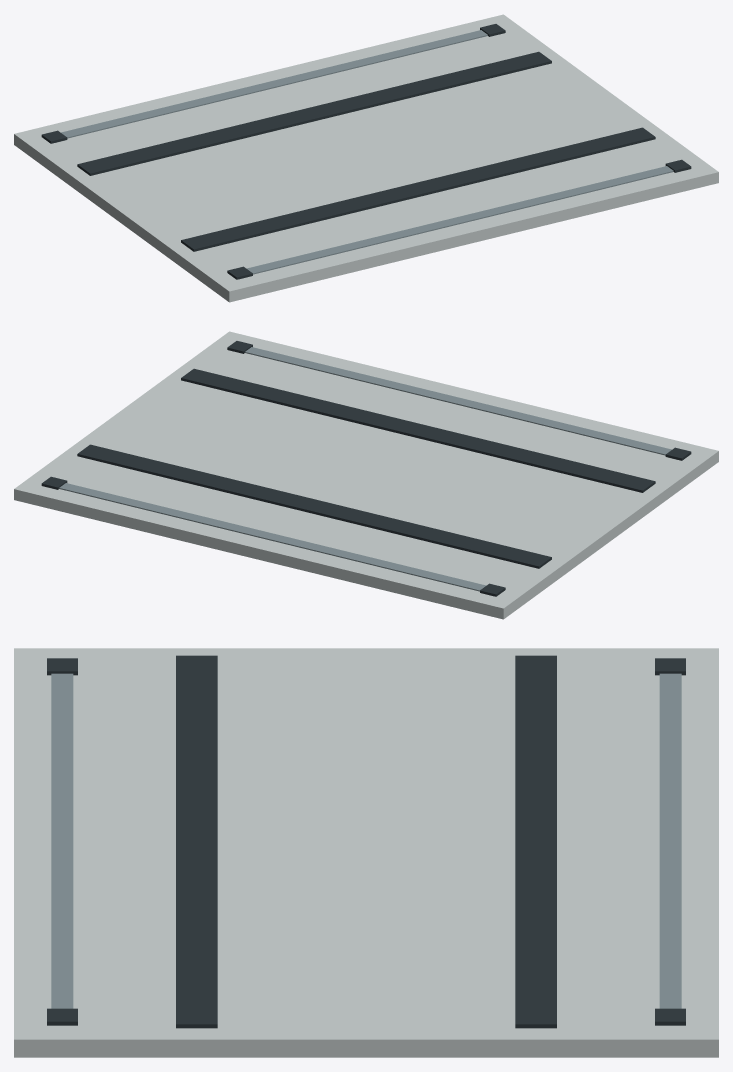
Rendered from inspection_foundation.dae.
3 views of the same model, one above another, from view 1: azimuth 30°, elevation 25°; view 2: azimuth 150°, elevation 25°; view 3: azimuth 270°, elevation 25° (orthographic). The views are drawn at different scales.
Visible parts, largest first — view 1: inspection_foundation; view 2: inspection_foundation; view 3: inspection_foundation.
Boxes of the visible parts, x1,y1,x2,y2 form: inspection_foundation: (14, 14, 718, 302); inspection_foundation: (14, 331, 718, 619); inspection_foundation: (14, 648, 718, 1057).
Size of the model in its own units: 4.2 by 3.2 by 0.11.
